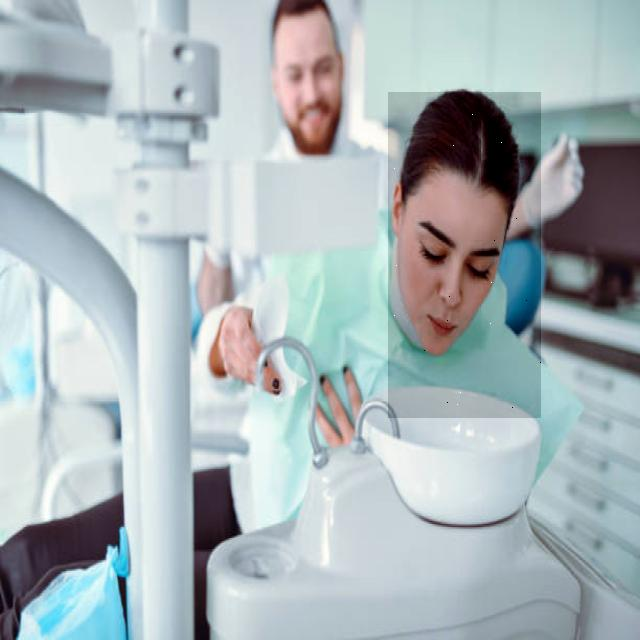Spitting: (388, 92, 541, 418)
